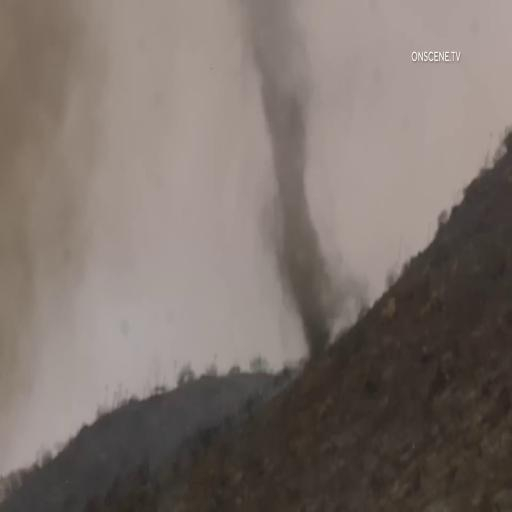smoke: (249, 25, 338, 346), (0, 29, 95, 306)
